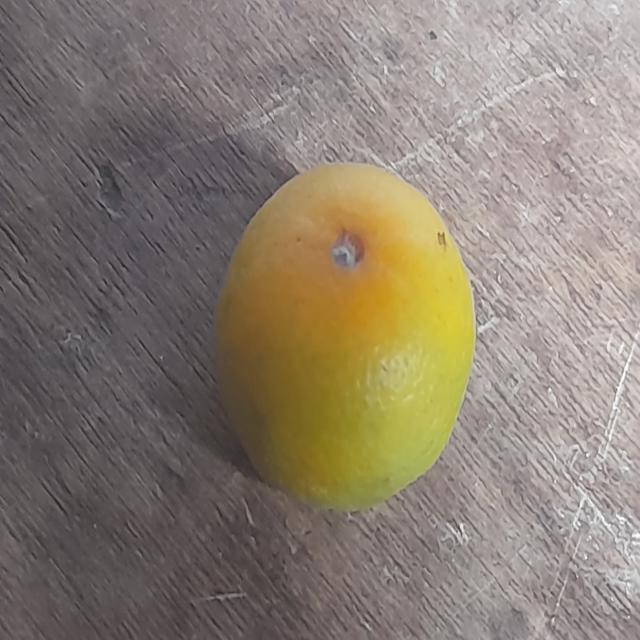greening: (212, 164, 479, 506)
